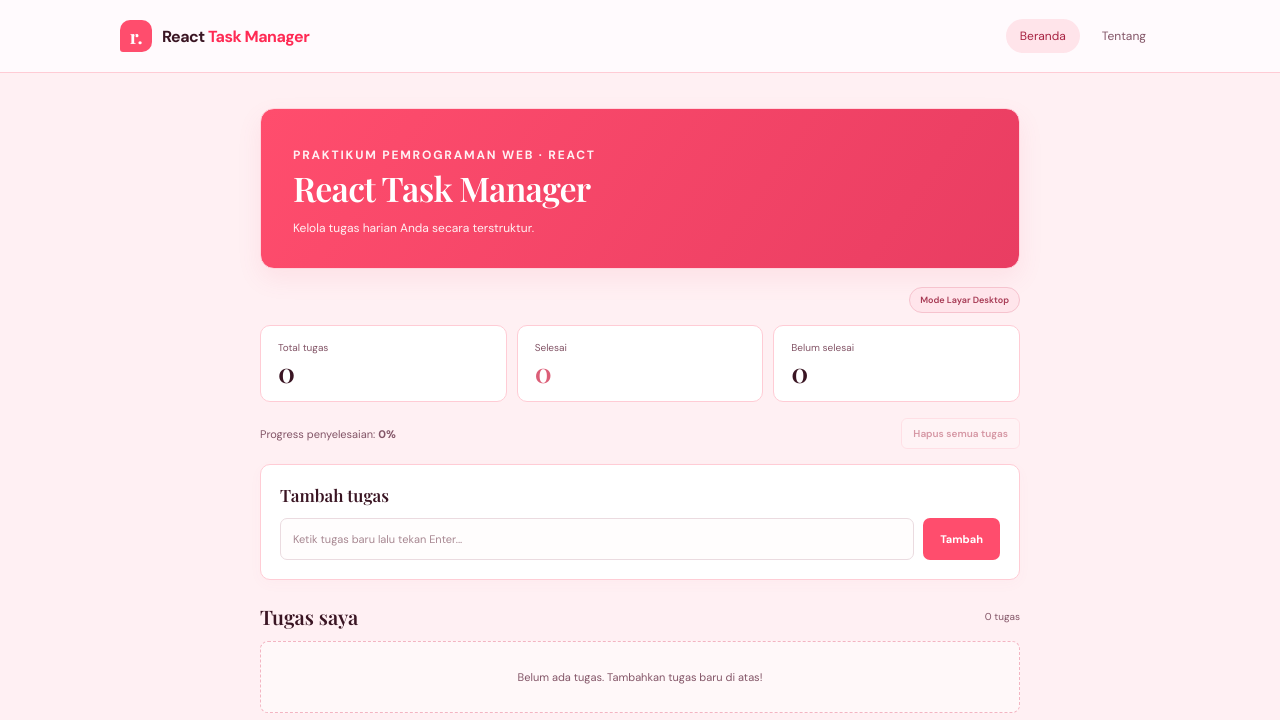
Test: React Task Manager module › adds a task and persists it in localStorage
Type "Mempelajari React" into the field named "Judul tugas baru" at (597, 539), box 280,518 -> 914,560
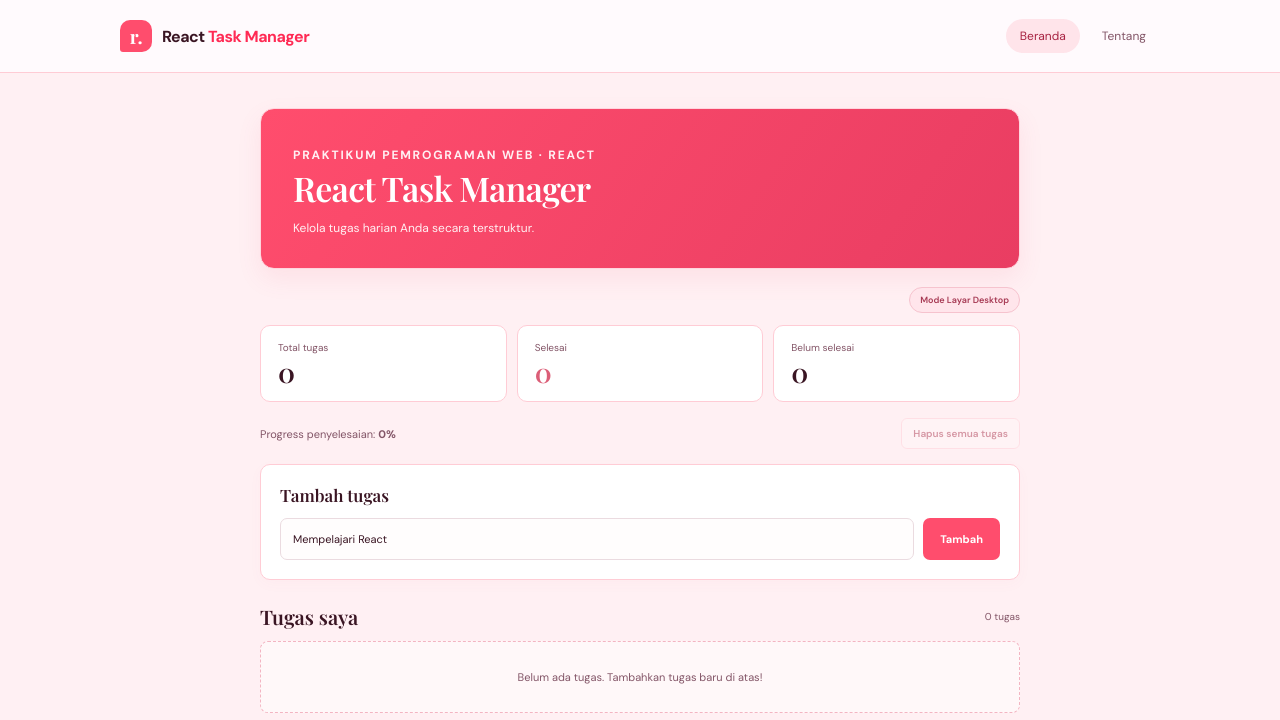
Click the button "Tambah" at (962, 539), box 923,518 -> 1000,560
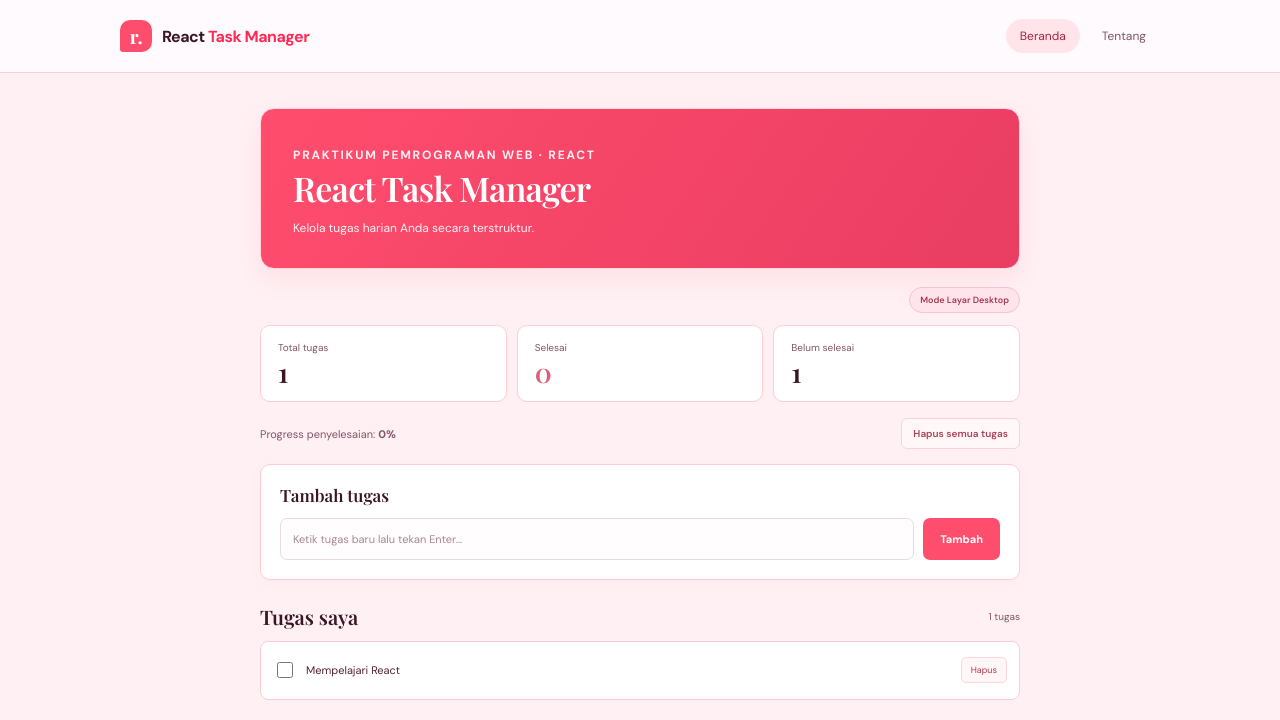
Expected: the text "Mempelajari React" is shown, 306,663 -> 400,677
